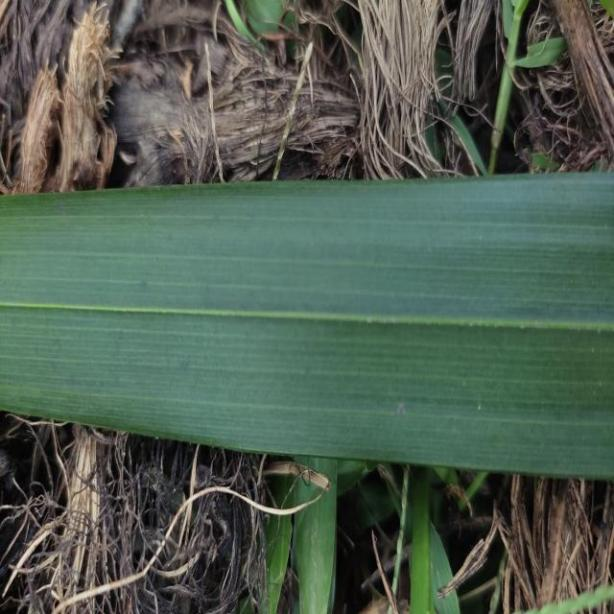Healthy: (0, 171, 614, 483)
